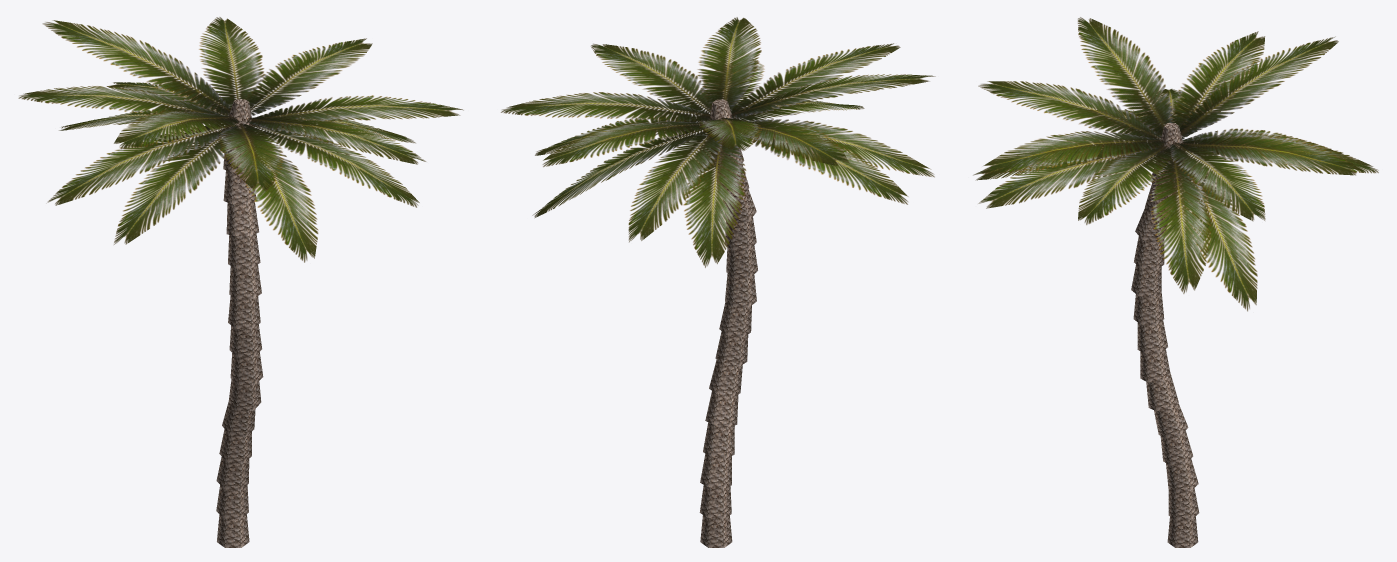
File: palm_tree_002.glb
3 renders of one model, left to right at view 1: azimuth 30°, elevation 25°; view 2: azimuth 150°, elevation 25°; view 3: azimuth 270°, elevation 25°, orthographic. The views are drawn at different scales.
Visible parts, largest first — view 1: palm_tree_002; view 2: palm_tree_002; view 3: palm_tree_002.
Part boxes in pixels (x1,y1,x2,y2): palm_tree_002: (18, 17, 463, 547); palm_tree_002: (501, 17, 935, 547); palm_tree_002: (973, 17, 1378, 547).
Size of the model in its own units: 6.97 by 8.5 by 6.96.
Materials: 2 (2 with a texture image).
